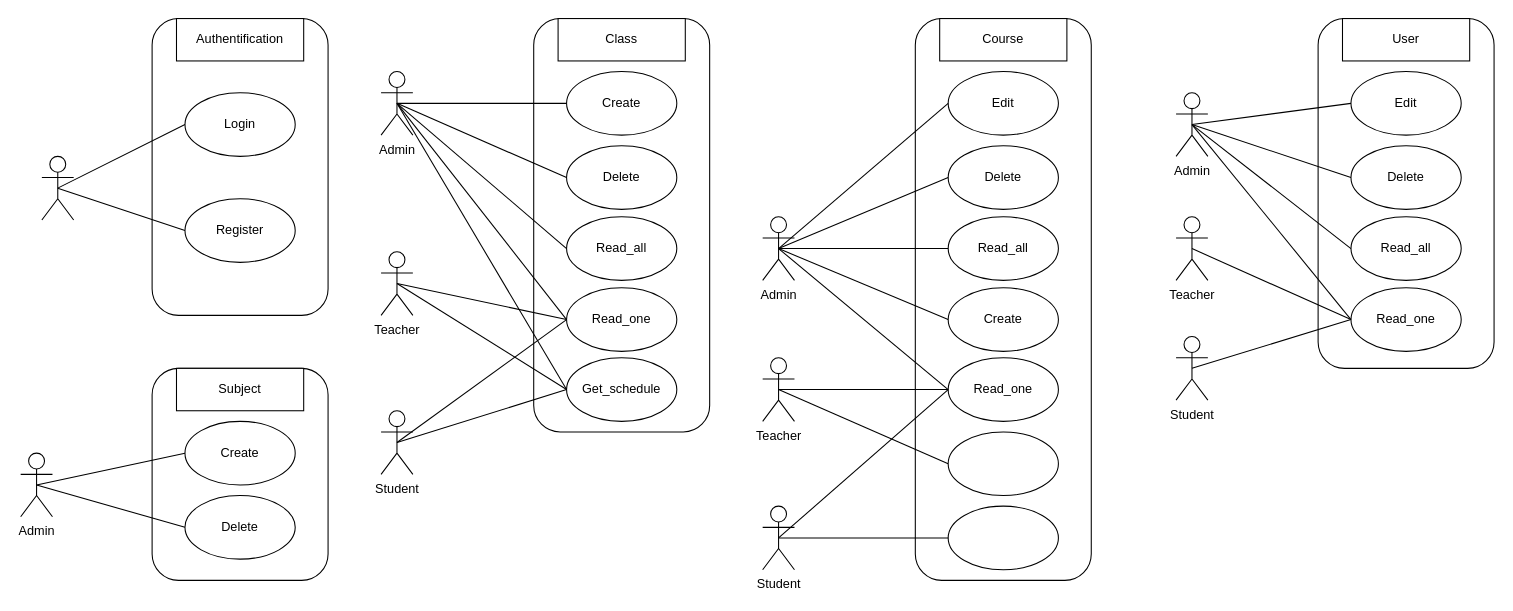
The diagram is 1513 pixels wide and 611 high, and some of its shapes have lost their labels. The shapes that lost their labels are listed below. From the top down, each one's box as (x1, y1, x2, y2) in pixels, then its label:
(41, 155, 74, 220): All
(947, 431, 1058, 496): Check_presence
(947, 505, 1058, 570): Presence_confirm
